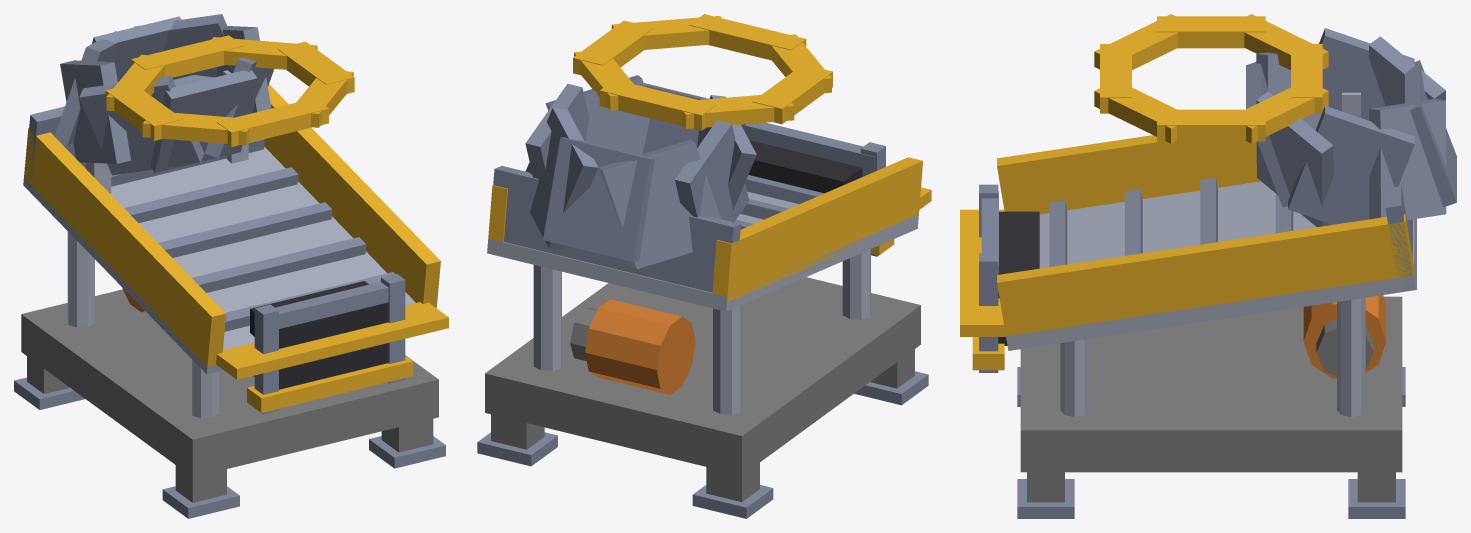
File: feeder_vibe.glb
3 renders of one model, left to right at view 1: azimuth 30°, elevation 25°; view 2: azimuth 150°, elevation 25°; view 3: azimuth 270°, elevation 25°, orthographic. The views are drawn at different scales.
Parts seen in each view (by area): view 1: feeder_vibe; view 2: feeder_vibe; view 3: feeder_vibe.
Part boxes in pixels (bbox=[...]): feeder_vibe: bbox=[14, 14, 448, 518]; feeder_vibe: bbox=[477, 14, 931, 518]; feeder_vibe: bbox=[960, 14, 1456, 518].
Bounding box in the file's own units: 1 × 1.26 × 1.5.
